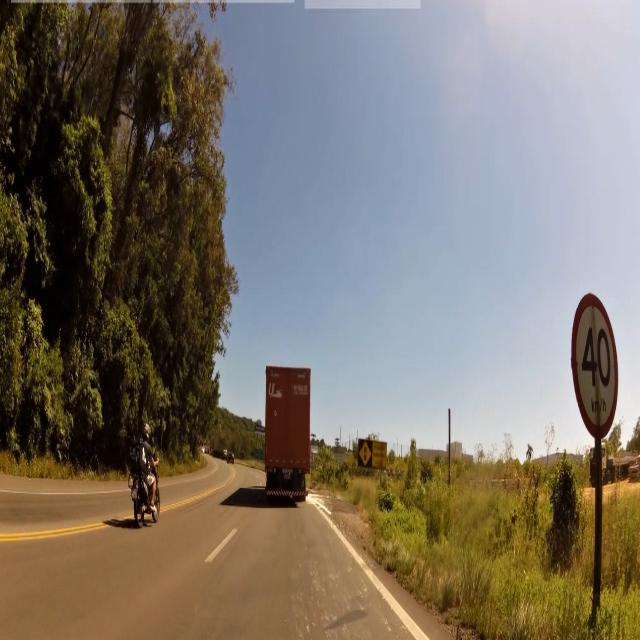R-19: (570, 290, 618, 443)
